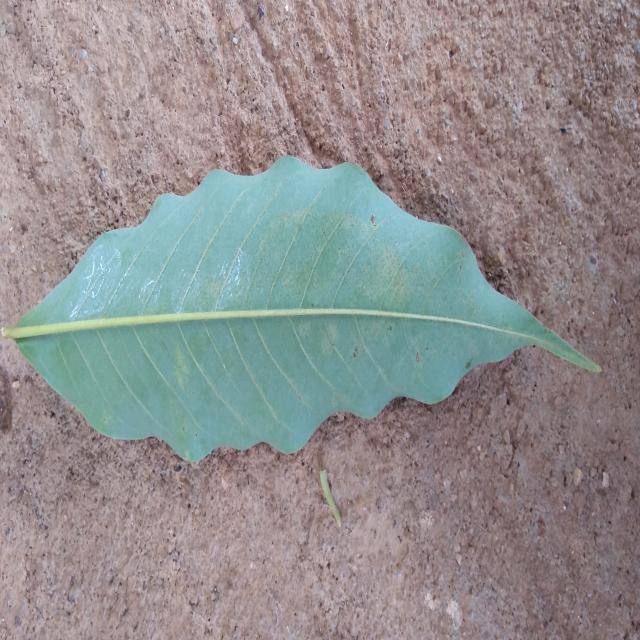sampige: (4, 158, 599, 460)
